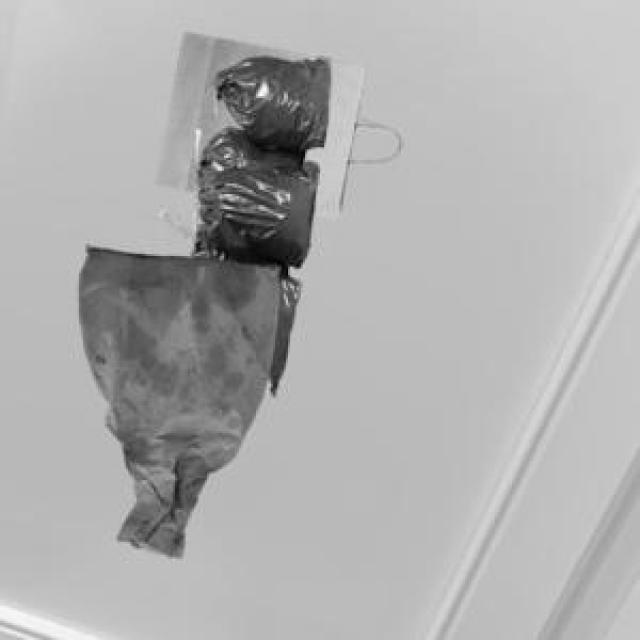miscellaneous trash: (188, 53, 326, 393)
paper: (75, 241, 275, 553), (152, 28, 363, 213)
